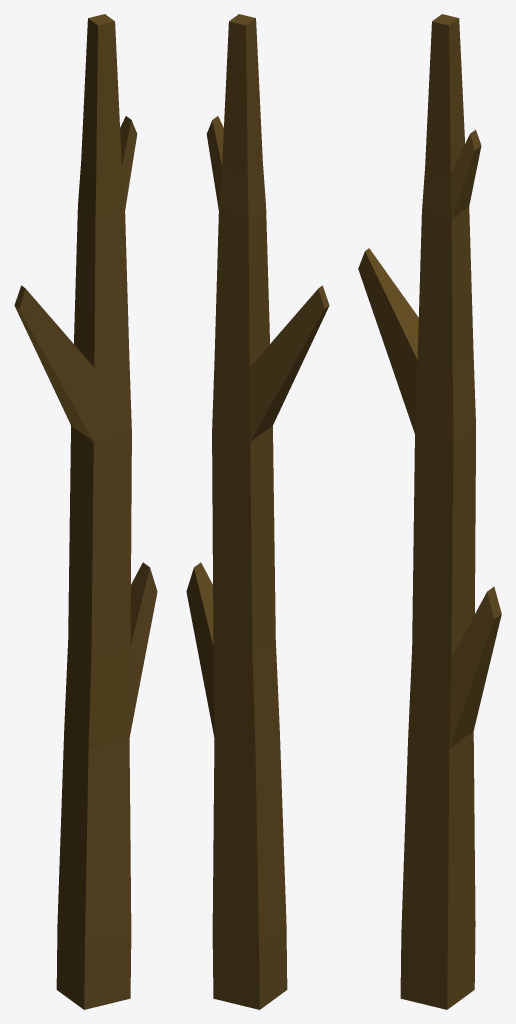
Rendered from stick.glb.
The picture shows the model from 3 angles, left to right: view 1: azimuth 30°, elevation 25°; view 2: azimuth 150°, elevation 25°; view 3: azimuth 330°, elevation 25°; orthographic projection.
Parts seen in each view (by area): view 1: Stick; view 2: Stick; view 3: Stick.
Boxes of the visible parts, x1,y1,x2,y2 form: Stick: [14, 14, 157, 1009]; Stick: [186, 14, 329, 1009]; Stick: [358, 14, 501, 1009].
Size of the model in its own units: 2.05 by 13.91 by 0.7129.
